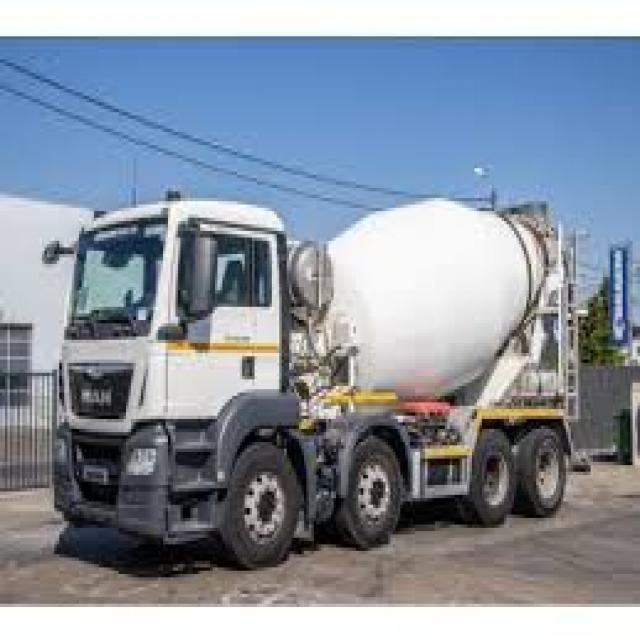Mixer Truck: (45, 186, 593, 569)
